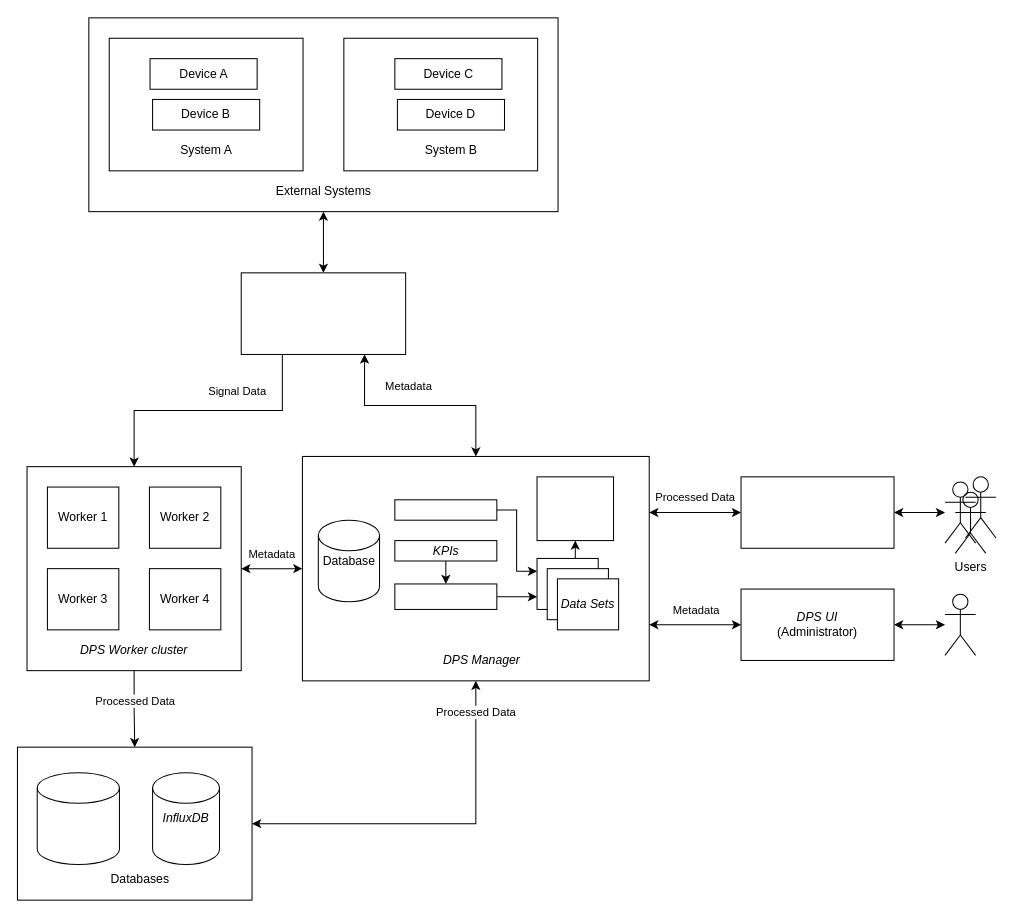
Some shapes in this 1015 by 918 pixel diagram are drawn without their labels. The centre of each missing label's shape, as x and y in pixels:
Administrator: point (960, 624)
Batch Process: point (575, 508)
Data Sources: point (445, 509)
DPS Client: point (323, 313)
DPS UI (End-user): point (817, 512)
Systems: point (445, 596)
TimescaleDB: point (77, 818)
